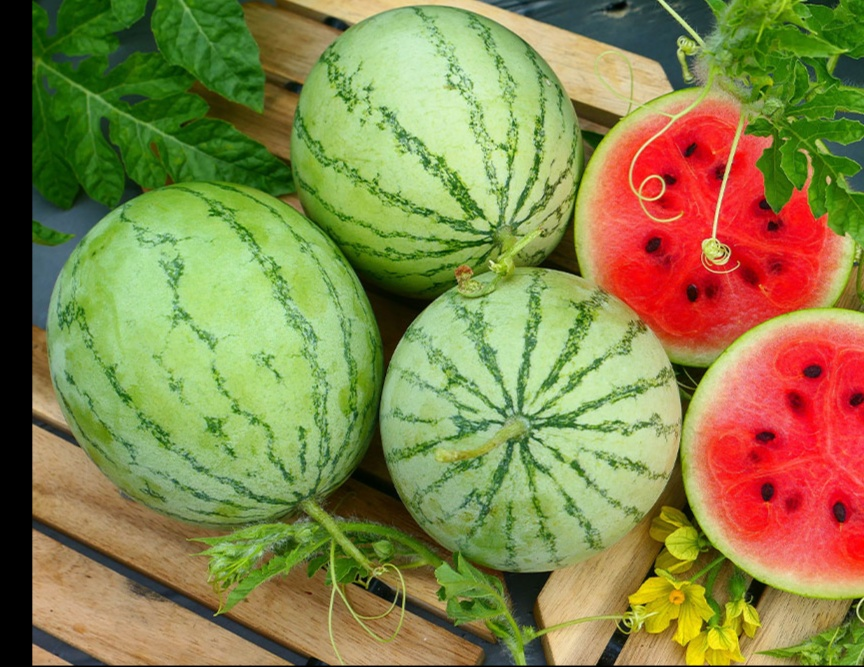watermelon: (43, 189, 381, 526), (386, 264, 682, 587), (281, 4, 579, 283)
